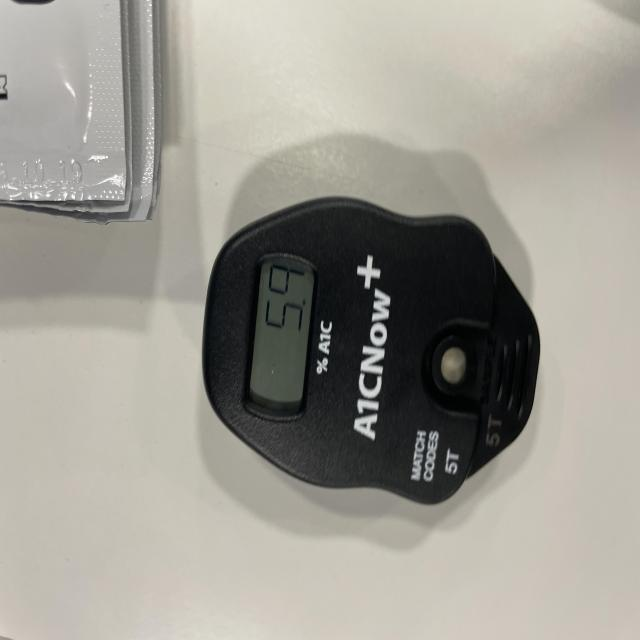hba1c: (200, 197, 542, 508)
